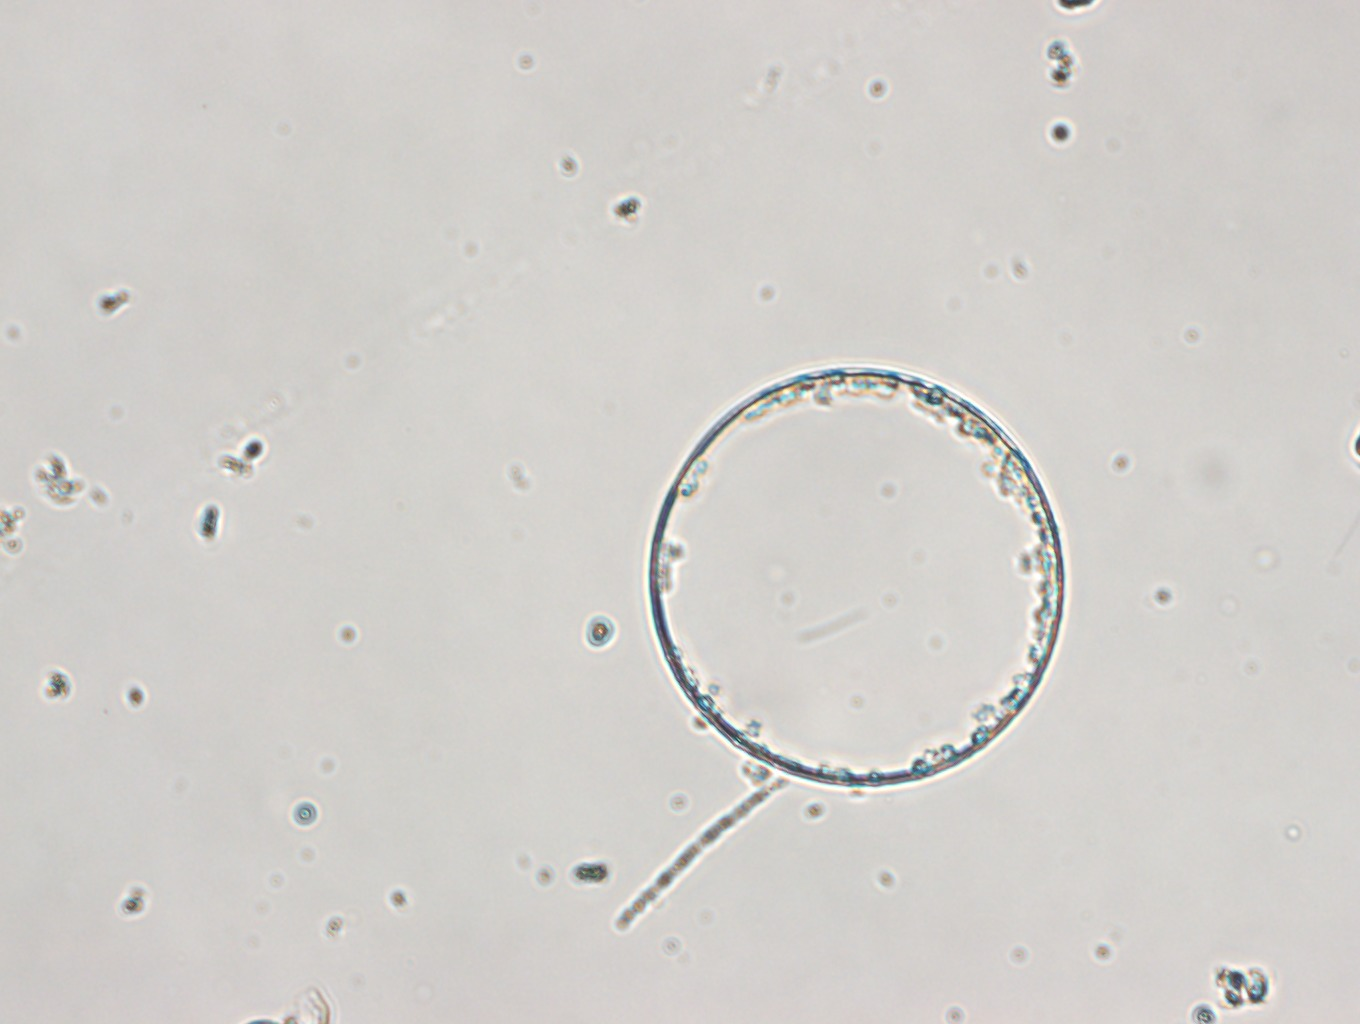coscinodiscus: (644, 361, 1066, 792)
